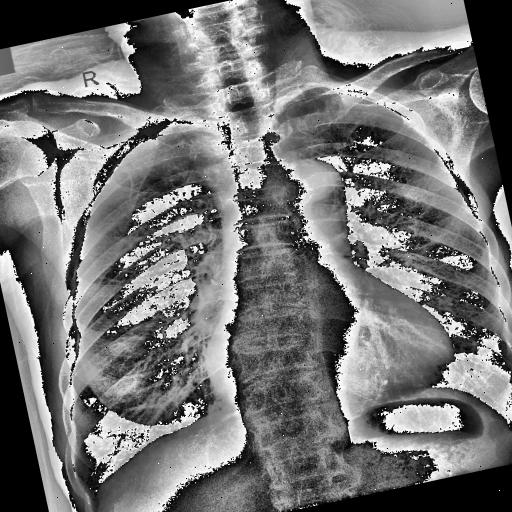0- Aortic enlargement: (252, 148, 347, 224), (270, 152, 350, 232), (270, 149, 346, 215)
10- Pleural effusion: (74, 484, 105, 512)
11- Pleural thickening: (74, 484, 105, 512)
3- Cardiomegaly: (198, 282, 458, 432)
